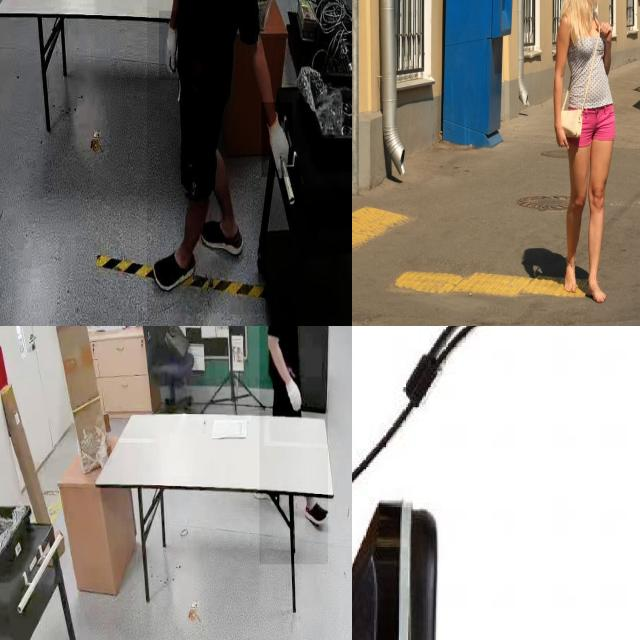Barefoots: (564, 258, 576, 292), (588, 282, 606, 302)
Ear-protection: (352, 326, 640, 640)
hand_glove: (261, 102, 293, 178), (159, 11, 183, 80), (285, 375, 305, 420)
person: (147, 0, 292, 314), (259, 326, 328, 565)
shoes: (149, 240, 199, 301), (196, 208, 248, 263), (303, 495, 331, 530)
